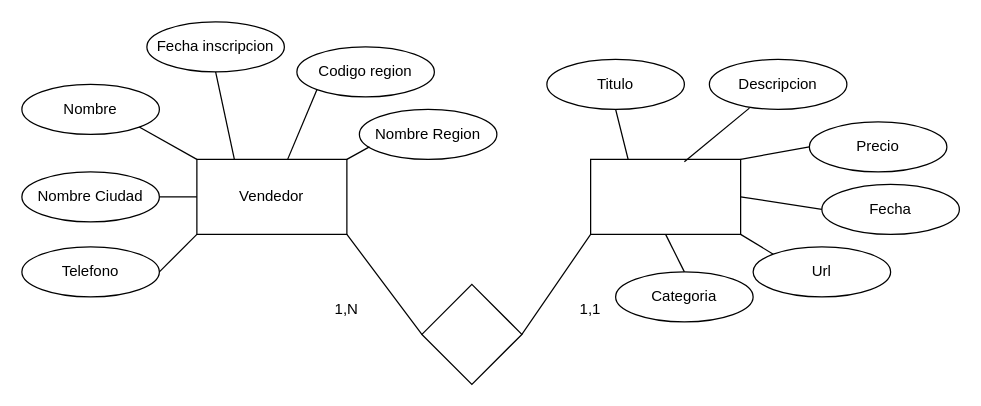
The diagram is 981 pixels wide and 406 high, and some of its shapes have lost their labels. Here are the shapes that lost their labels. From the top down, the centre of each, then its label:
At pixel 665 196: "Anuncio".
At pixel 471 333: "Publicar".
